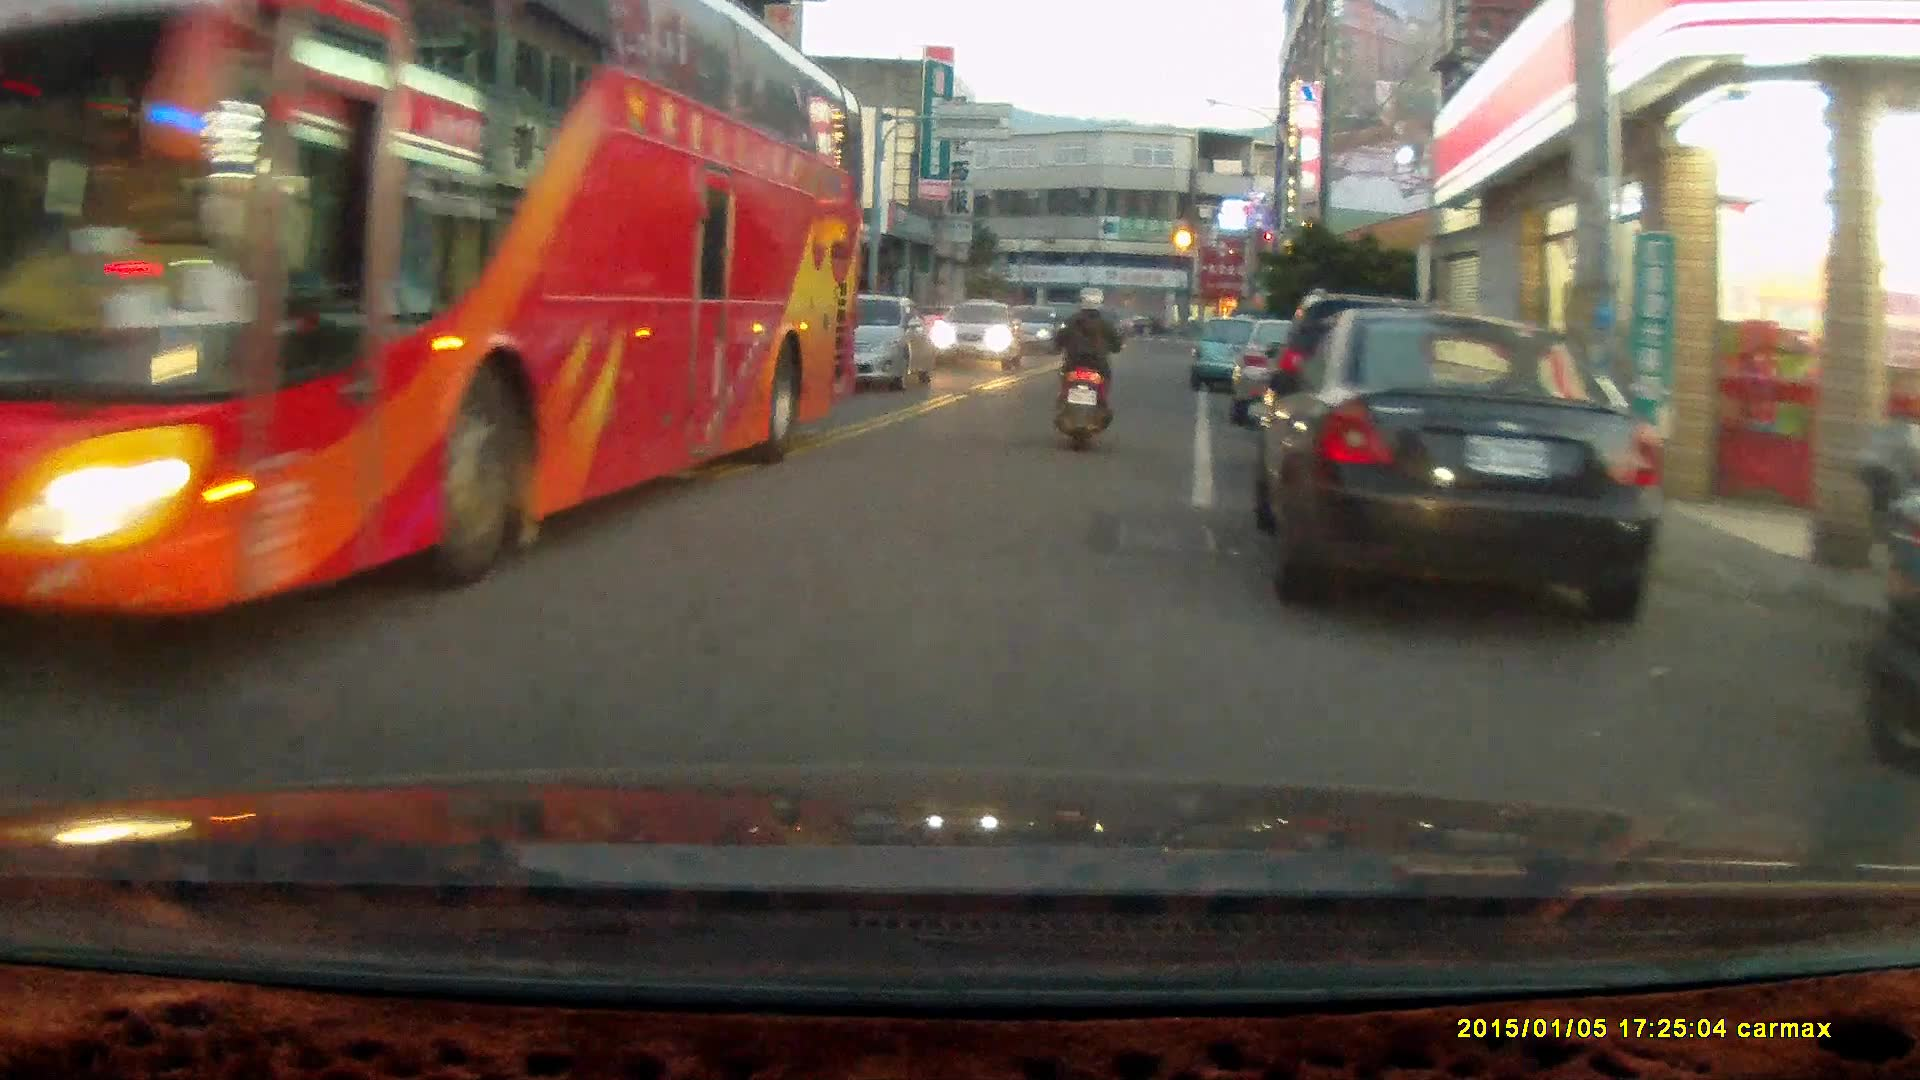rider: (1049, 281, 1124, 453)
vehicle: (1, 18, 871, 617), (1254, 307, 1663, 624), (809, 292, 936, 393), (927, 299, 1022, 370), (1191, 314, 1272, 389)
